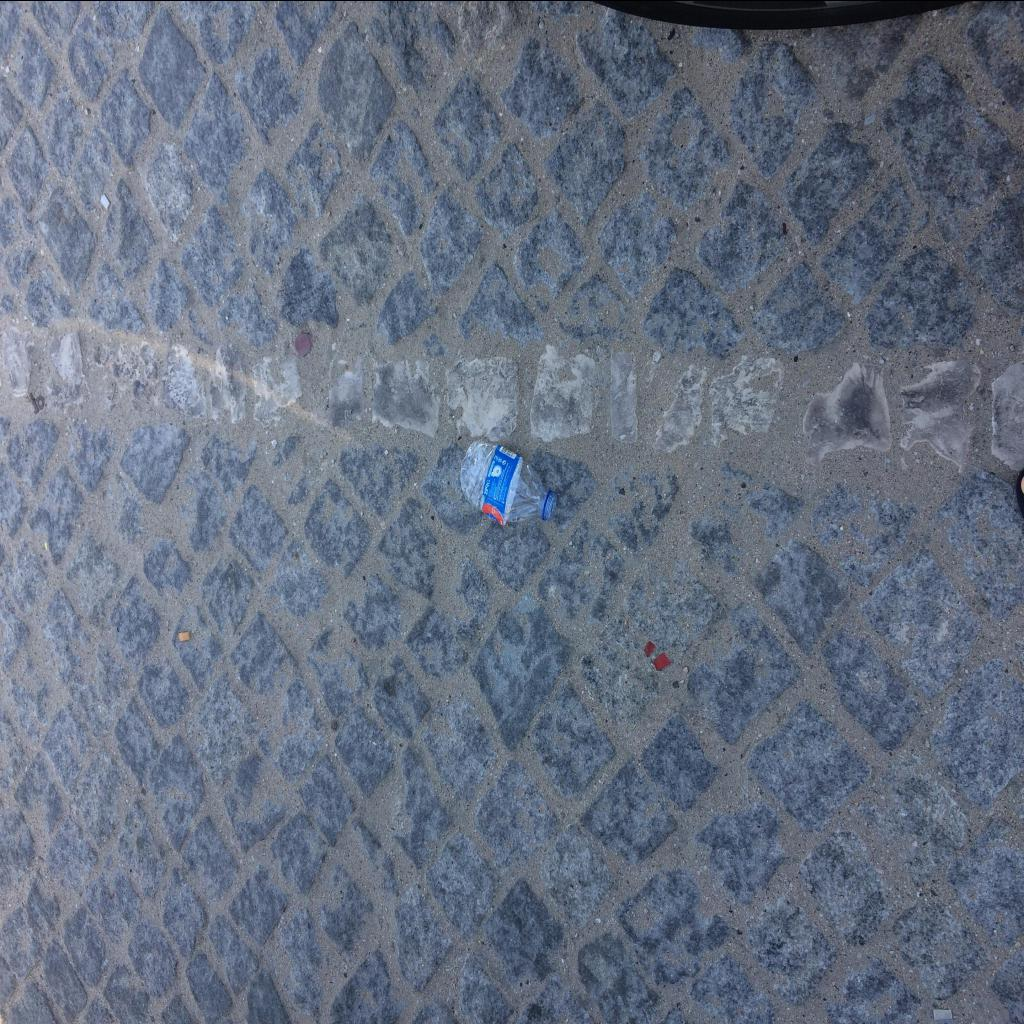Cigarette: (932, 1008, 952, 1018), (100, 191, 109, 209), (178, 630, 190, 642)
Clear plastic bottle: (461, 436, 557, 524)
Other plastic bottle: (482, 444, 523, 526)
